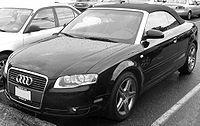car: (4, 4, 200, 126)
